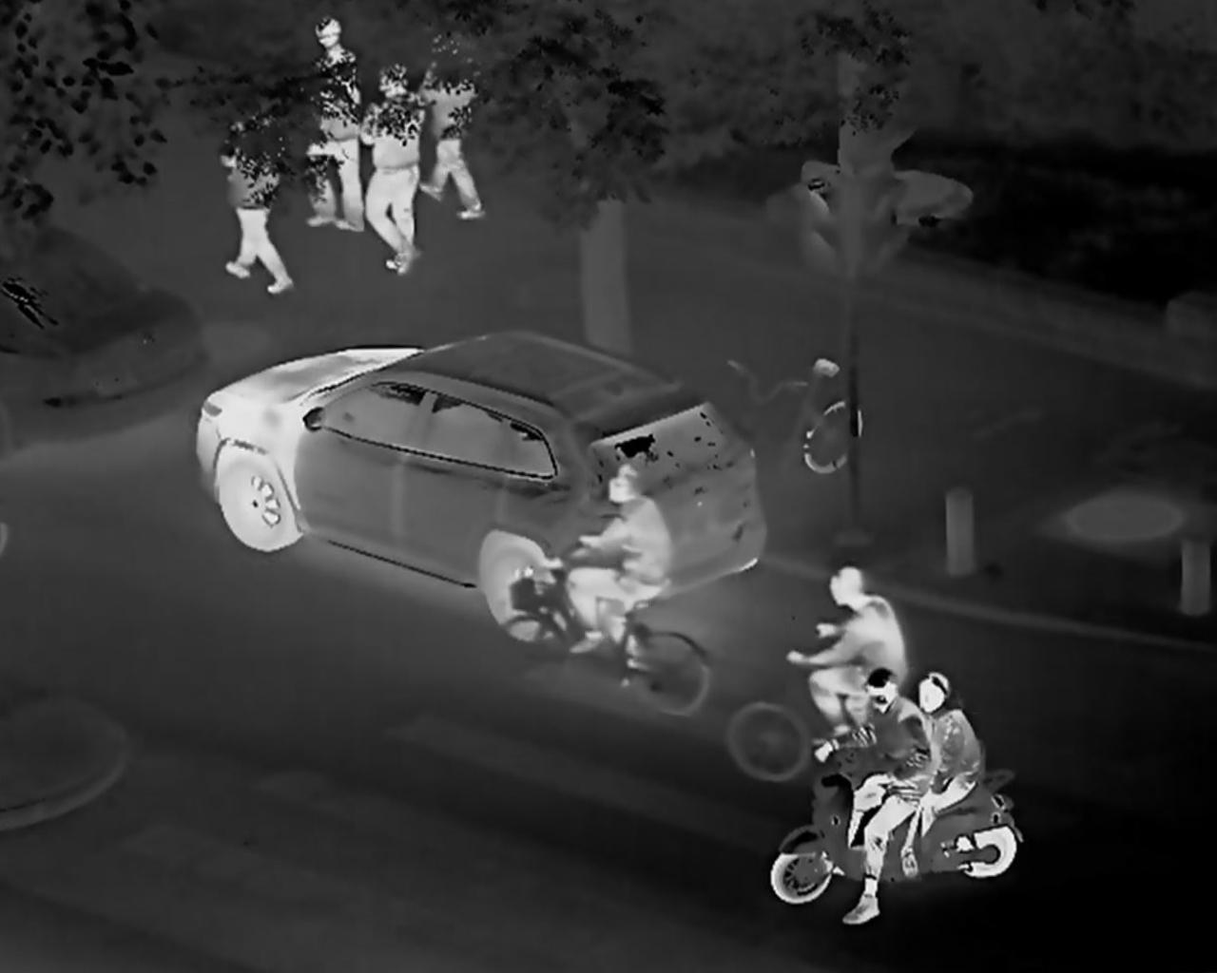person: (807, 674, 928, 925), (782, 562, 906, 777), (562, 463, 678, 674), (892, 671, 980, 884), (220, 80, 297, 295), (296, 17, 367, 229), (415, 29, 485, 220), (371, 67, 424, 271)
